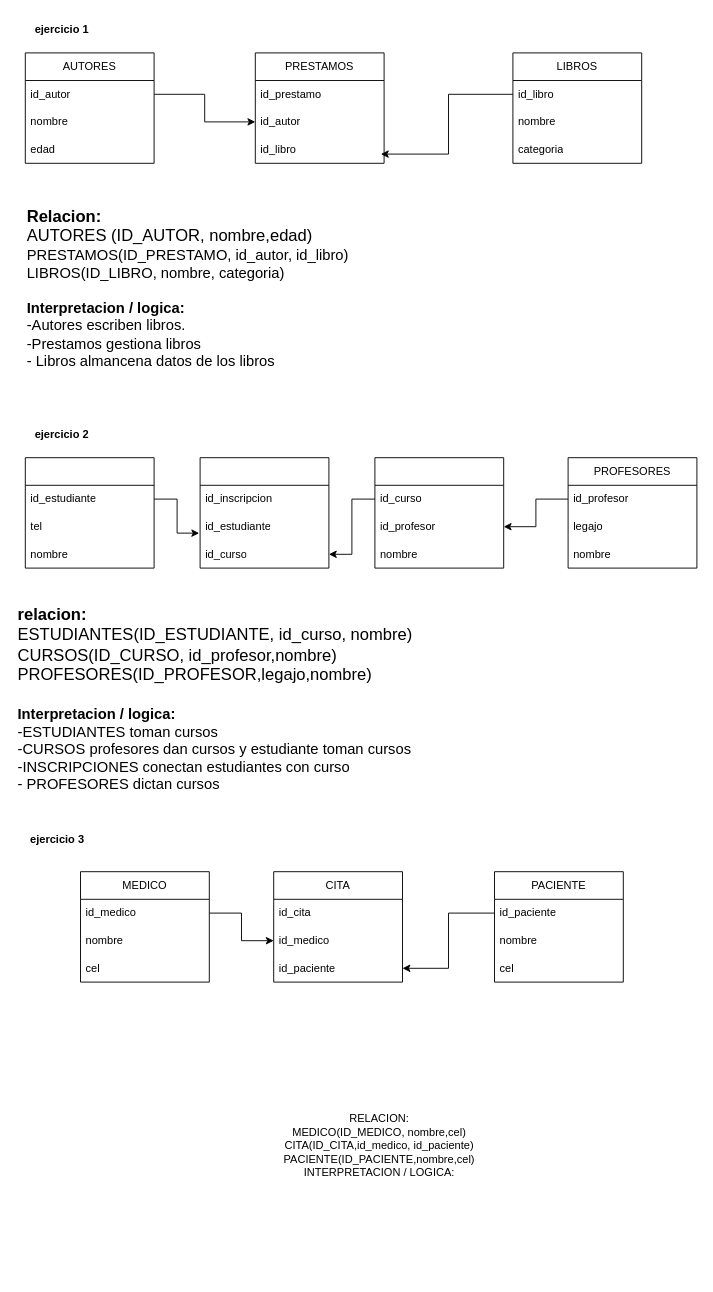
Image size: 713x1292. Some labels were removed from this diagram. The shapes that lost their labels are listed below. From the top down, each one's box as (x1, y1, x2, y2) in pixels, then its label:
(24, 457, 154, 568): ESTUDIANTES
(199, 457, 329, 568): INSCRIPCIONES
(374, 457, 504, 568): CURSOS
